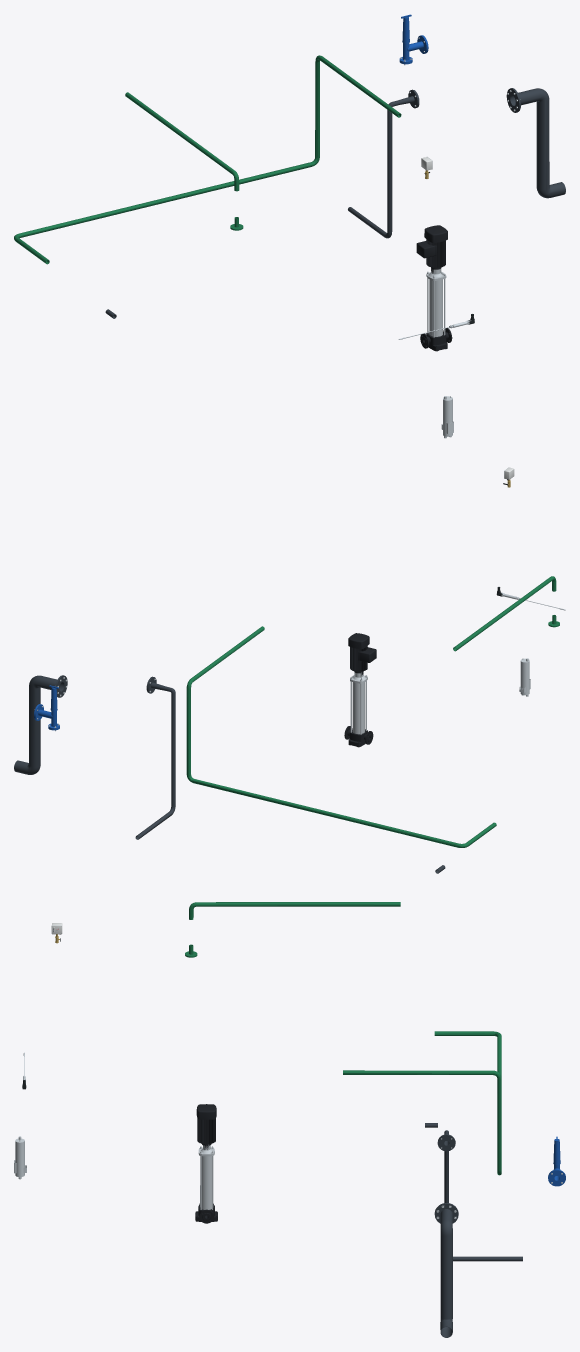
Rendered from s4000-1-5ECtkJuH.glb.
The picture shows the model from 3 angles, top to bottom: view 1: azimuth 30°, elevation 25°; view 2: azimuth 150°, elevation 25°; view 3: azimuth 270°, elevation 25°; orthographic projection. The views are drawn at different scales.
Visible parts, largest first — view 1: to_economizer / green, bdv_water_drain / dark, bottom_to_bdv / dark, pump_1 CAD solid 15, pump_1 CAD solid 2, direct_inlet / green, flash_steam_common / blue; view 2: to_economizer / green, bdv_water_drain / dark, bottom_to_bdv / dark, pump_1 CAD solid 15, pump_1 CAD solid 2, direct_inlet / green, flash_steam_common / blue; view 3: bdv_water_drain / dark, to_economizer / green, direct_inlet / green, bottom_to_bdv / dark, pump_1 CAD solid 15, pump_1 CAD solid 2.
Part boxes in pixels (x1=…): to_economizer / green: x1=14, y1=55, x2=401, y2=264; bdv_water_drain / dark: x1=506, y1=88, x2=565, y2=198; bottom_to_bdv / dark: x1=348, y1=89, x2=419, y2=238; pump_1 CAD solid 15: x1=416, y1=225, x2=447, y2=268; pump_1 CAD solid 2: x1=429, y1=279, x2=442, y2=336; direct_inlet / green: x1=139, y1=102, x2=239, y2=191; flash_steam_common / blue: x1=399, y1=14, x2=428, y2=64; to_economizer / green: x1=186, y1=626, x2=496, y2=847; bdv_water_drain / dark: x1=14, y1=675, x2=67, y2=774; bottom_to_bdv / dark: x1=135, y1=676, x2=175, y2=839; pump_1 CAD solid 15: x1=348, y1=633, x2=376, y2=672; pump_1 CAD solid 2: x1=352, y1=682, x2=364, y2=734; direct_inlet / green: x1=467, y1=576, x2=556, y2=641; flash_steam_common / blue: x1=34, y1=685, x2=59, y2=730; bdv_water_drain / dark: x1=434, y1=1203, x2=458, y2=1337; to_economizer / green: x1=343, y1=1031, x2=501, y2=1175; direct_inlet / green: x1=189, y1=902, x2=374, y2=919; bottom_to_bdv / dark: x1=437, y1=1130, x2=522, y2=1261; pump_1 CAD solid 15: x1=196, y1=1104, x2=216, y2=1144; pump_1 CAD solid 2: x1=200, y1=1156, x2=213, y2=1209.
Size of the model in its own units: 5.3 by 2.62 by 5.06.
